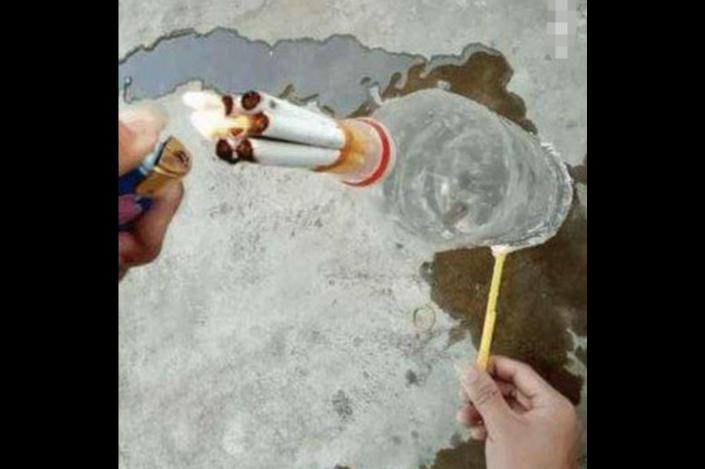Cigarette: (240, 138, 338, 168), (252, 112, 340, 144), (240, 89, 336, 114)
